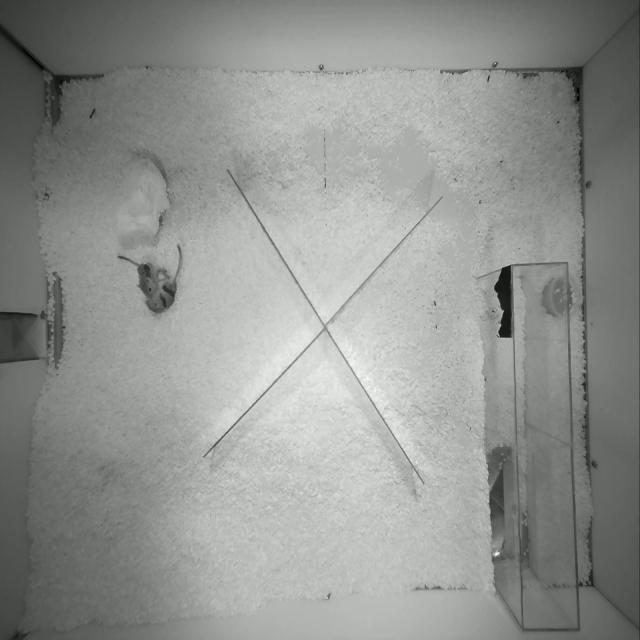pup_h_stripe: (146, 245, 182, 313)
pup_v_stripe: (119, 255, 155, 298)
